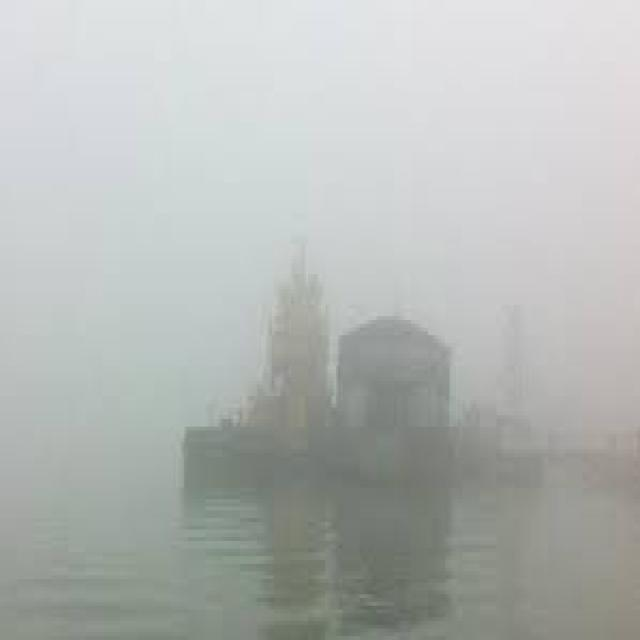fishing boat: (178, 246, 522, 484)
